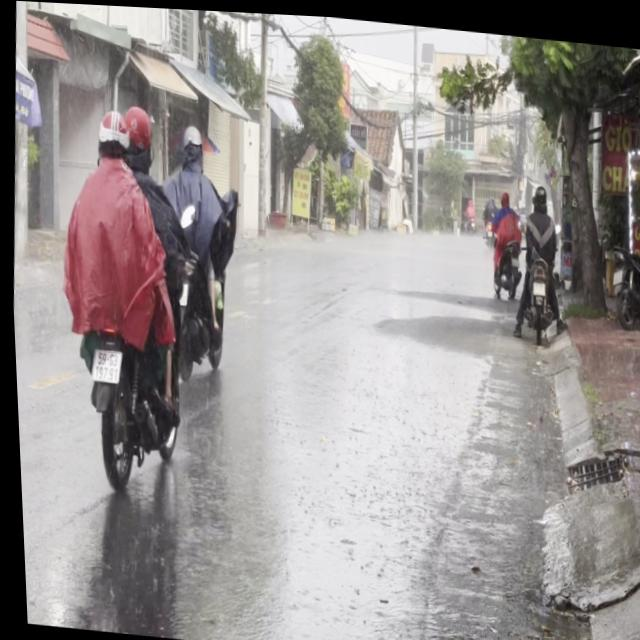helmet: (117, 100, 154, 170), (91, 105, 128, 164), (176, 120, 204, 168), (529, 177, 547, 207)
licenseplate: (38, 93, 200, 512), (151, 116, 242, 384), (507, 174, 567, 340)
nohelmet: (87, 348, 118, 381), (530, 276, 543, 290)
